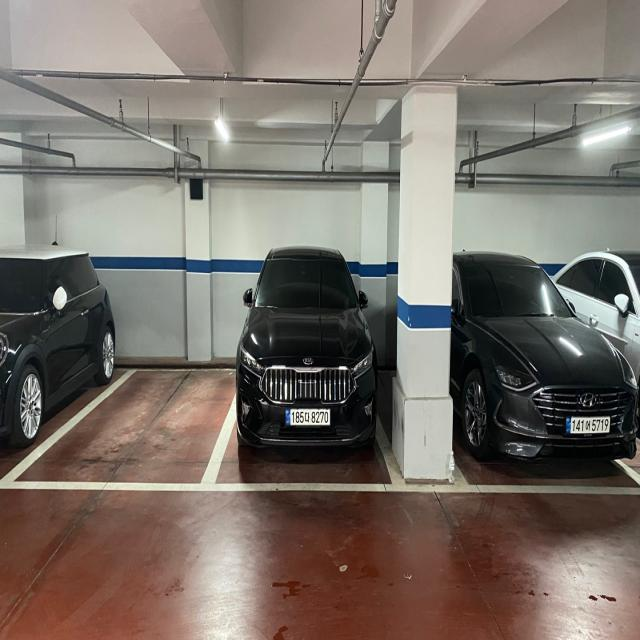empty: (0, 364, 235, 491)
occupied: (453, 250, 637, 464), (236, 245, 377, 455)
